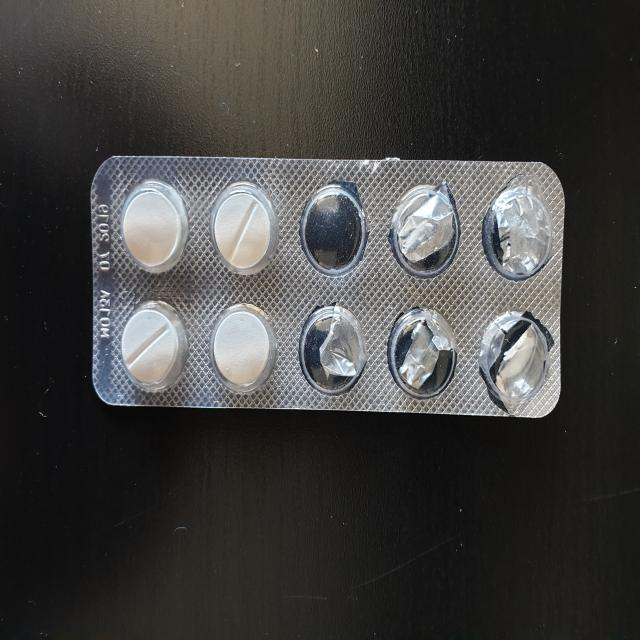Empty: (386, 302, 464, 402), (385, 181, 461, 281), (294, 296, 369, 397), (477, 305, 550, 407), (479, 185, 554, 283), (296, 183, 366, 282)
Pill: (108, 296, 185, 394), (205, 294, 278, 396), (208, 182, 280, 276), (117, 177, 186, 274)
